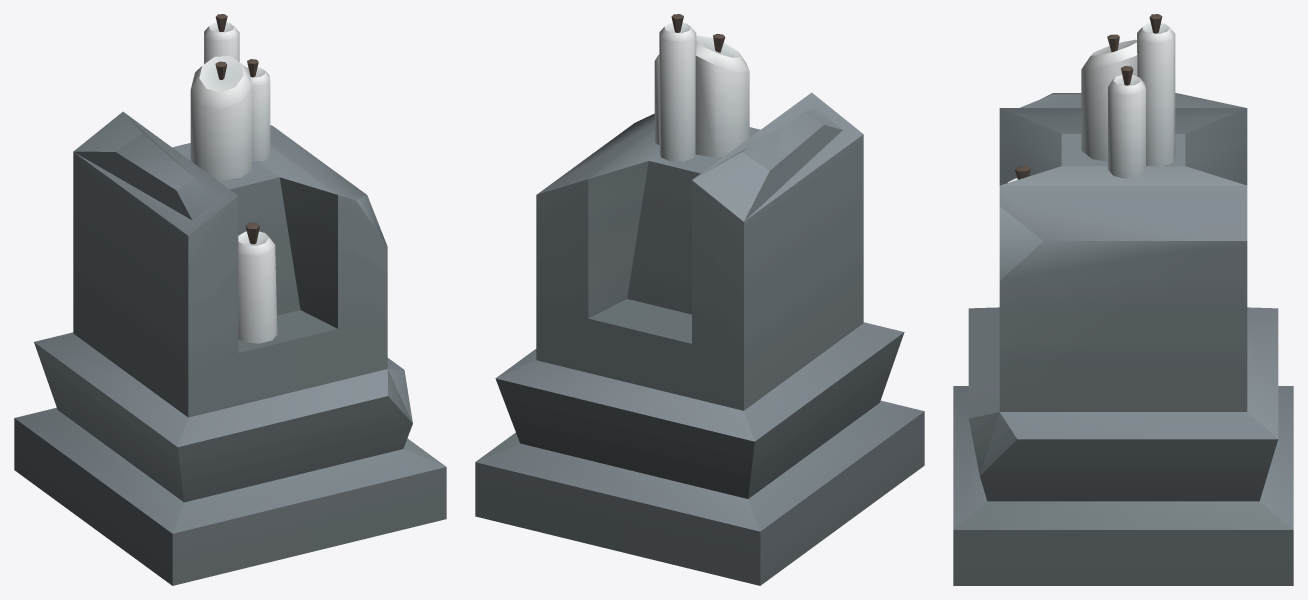
File: shrine_candles.glb
3 views of the same model, side by side, from view 1: azimuth 30°, elevation 25°; view 2: azimuth 150°, elevation 25°; view 3: azimuth 270°, elevation 25° (orthographic). The views are drawn at different scales.
Parts seen in each view (by area): view 1: shrine_candles; view 2: shrine_candles; view 3: shrine_candles.
Part boxes in pixels (<box>): shrine_candles: <box>14,14,446,585</box>; shrine_candles: <box>475,14,924,585</box>; shrine_candles: <box>953,14,1293,585</box>.
Size of the model in its own units: 1.1 by 1.79 by 1.1.
1 material, 1 textured.
